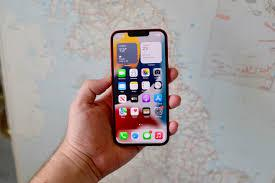Hand: (73, 60, 182, 175)
Smartphone: (109, 31, 173, 148)
